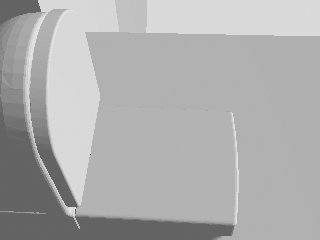lid_1: (30, 11, 99, 206)
